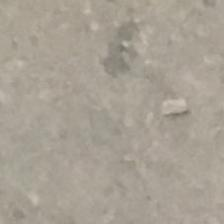Non_Crack: (12, 30, 203, 212)
